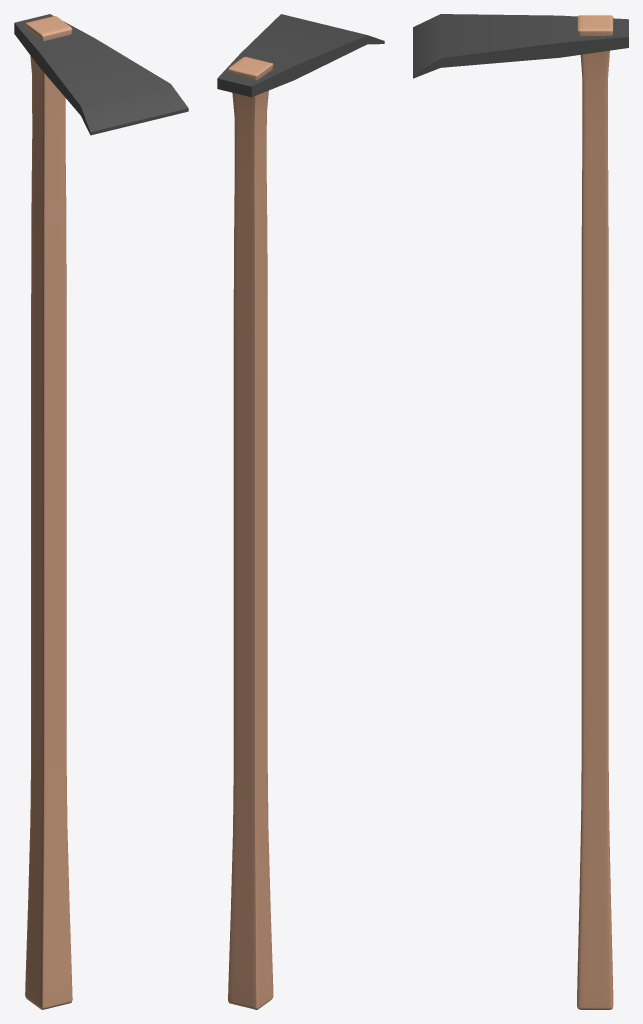
File: Gardening Hoe.fbx
The picture shows the model from 3 angles, left to right: view 1: azimuth 30°, elevation 25°; view 2: azimuth 150°, elevation 25°; view 3: azimuth 270°, elevation 25°; orthographic projection. The views are drawn at different scales.
Visible parts, largest first — view 1: polySurface1; view 2: polySurface1; view 3: polySurface1.
Part boxes in pixels (x1,y1,x2,y2): polySurface1: (14,14,188,1009); polySurface1: (217,14,384,1009); polySurface1: (413,14,628,1009).
Bounding box in the file's own units: 56.25 × 534 × 107.
